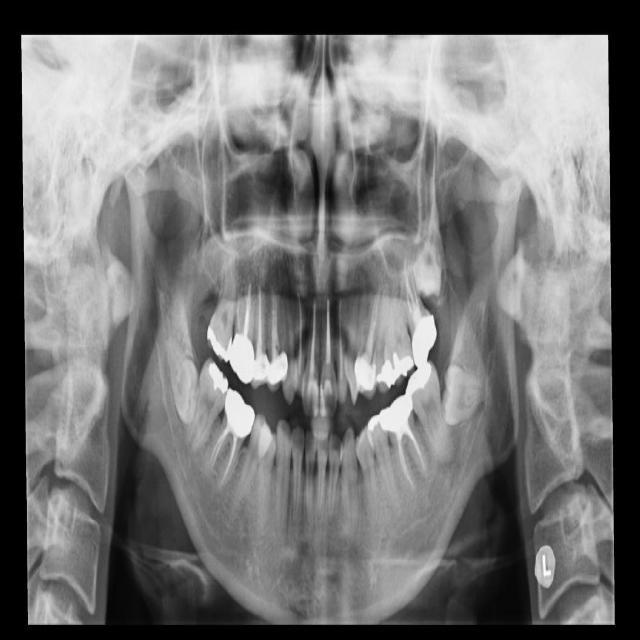52: (211, 383, 267, 443), (395, 357, 450, 415), (372, 390, 425, 441), (193, 355, 240, 412), (379, 331, 421, 390), (408, 311, 439, 368), (204, 308, 235, 363), (228, 331, 256, 385), (353, 352, 377, 400), (372, 342, 394, 393), (363, 414, 391, 454), (319, 367, 338, 417), (301, 369, 319, 416), (266, 354, 288, 392), (250, 352, 271, 389), (294, 360, 306, 394), (337, 368, 348, 402)
73: (385, 420, 440, 497), (196, 416, 249, 491), (388, 252, 435, 333), (358, 280, 384, 353), (234, 275, 257, 344), (305, 297, 325, 370), (267, 283, 286, 354), (252, 284, 267, 352), (321, 294, 334, 370), (334, 297, 347, 370), (295, 289, 307, 362), (590, 584, 600, 592)
BioHorizons Implant: (394, 251, 443, 369)
BioLife Implant: (412, 219, 443, 297)
Biomet 3i Implant: (437, 363, 491, 431)
Blue Sky Bio Implant: (400, 359, 455, 468)
Caries: (204, 233, 243, 362)
Implant: (182, 357, 236, 455)
Keystone Dental Implant: (163, 333, 206, 427)
